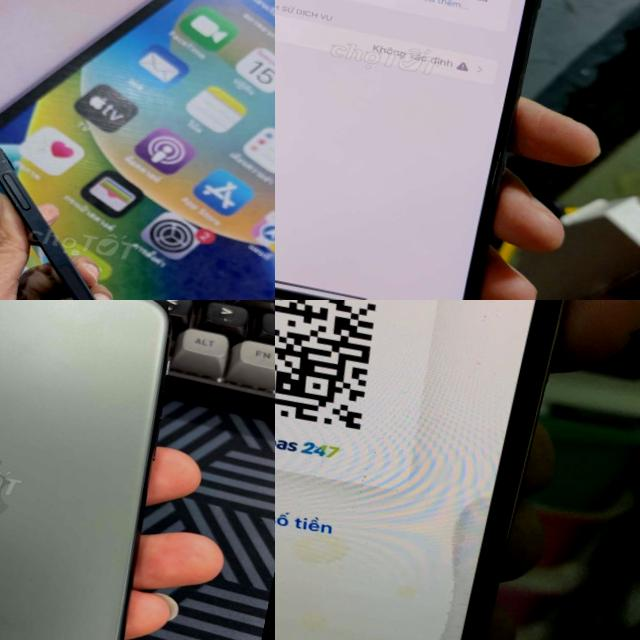gen_11: (0, 300, 169, 640)
gen_12_13: (275, 300, 589, 640), (0, 101, 204, 300)
gen_x_xs: (275, 0, 568, 300)
scratch: (0, 112, 28, 191)
screen_defect: (415, 480, 510, 640)
